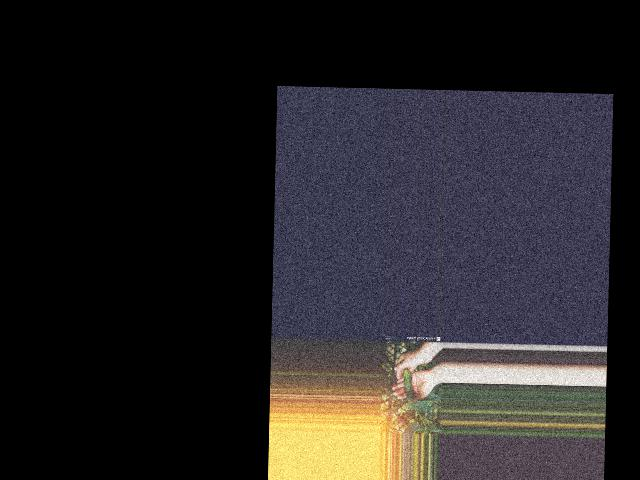cucumber: (402, 368, 414, 399)
